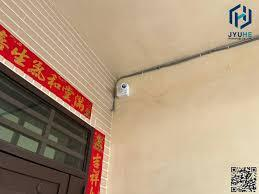Monitor: (109, 70, 138, 103)
